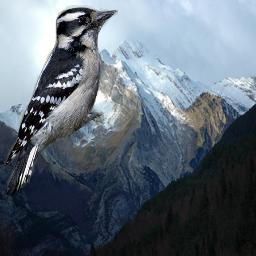Woodpecker: (4, 4, 118, 197)
